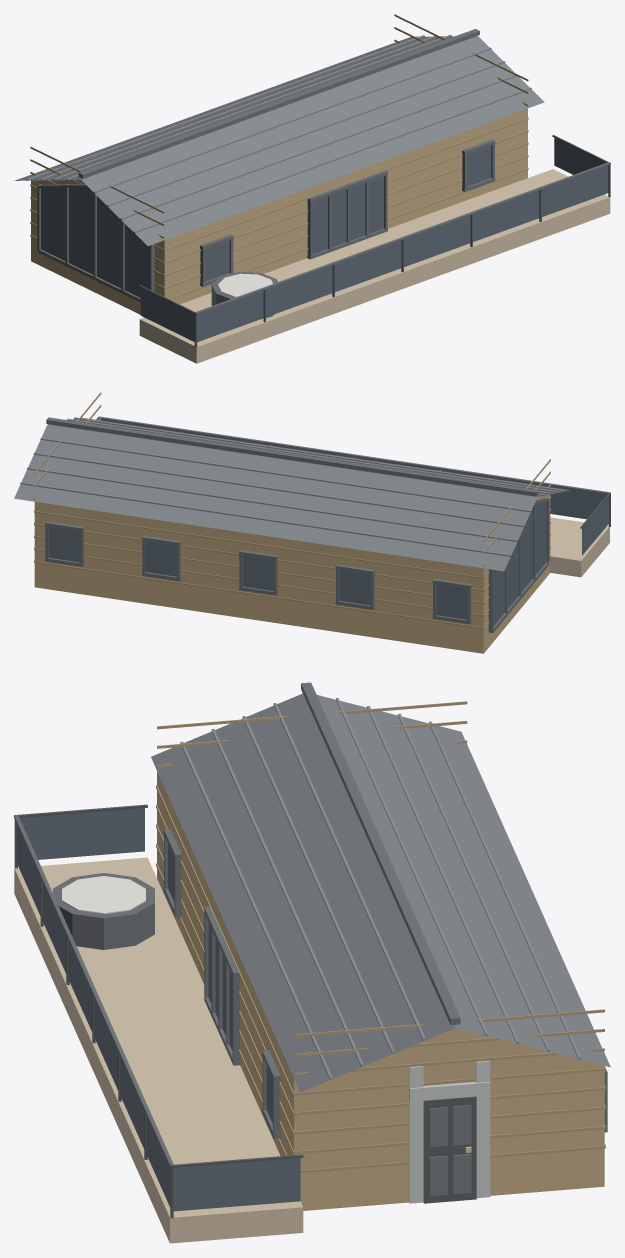
3 renders of one model, top to bottom at view 1: azimuth 30°, elevation 25°; view 2: azimuth 150°, elevation 25°; view 3: azimuth 270°, elevation 25°, orthographic. The views are drawn at different scales.
Visible parts, largest first — view 1: slate, door_wood, larch, slate_dk, slate_lt, window_glass_015, door_wood_p, window_glass_006, window_glass_002, window_glass_004, window_glass_001, window_glass_003 (+12 smaller); view 2: slate, door_wood, slate_dk, slate_lt, door_wood_p, window_glass_015, larch, window_glass_001, window_glass_017, window_glass_020, window_glass_018, window_glass_019 (+2 smaller); view 3: slate, door_wood, larch, slate_dk, slate_lt, door_wood_p, window_glass_008, window_glass_007, stone_band, band_dark, door_dark_p, door_dark (+8 smaller).
Boxes of the visible parts, bbox=[...] form: slate: bbox=[14, 36, 544, 245]; door_wood: bbox=[31, 108, 527, 314]; larch: bbox=[139, 169, 610, 363]; slate_dk: bbox=[37, 29, 609, 314]; slate_lt: bbox=[26, 34, 531, 233]; window_glass_015: bbox=[41, 187, 149, 297]; door_wood_p: bbox=[30, 14, 528, 299]; window_glass_006: bbox=[542, 165, 608, 216]; window_glass_002: bbox=[266, 265, 332, 317]; window_glass_004: bbox=[404, 215, 470, 266]; window_glass_001: bbox=[197, 290, 263, 341]; window_glass_003: bbox=[335, 240, 401, 292]; slate: bbox=[14, 417, 569, 571]; door_wood: bbox=[34, 494, 550, 653]; slate_dk: bbox=[45, 416, 609, 632]; slate_lt: bbox=[20, 417, 564, 556]; door_wood_p: bbox=[34, 392, 550, 629]; window_glass_015: bbox=[493, 501, 546, 625]; larch: bbox=[550, 517, 609, 577]; window_glass_001: bbox=[526, 482, 606, 519]; window_glass_017: bbox=[145, 541, 176, 576]; window_glass_020: bbox=[436, 584, 467, 619]; window_glass_018: bbox=[242, 555, 273, 590]; window_glass_019: bbox=[339, 570, 370, 605]; slate: bbox=[151, 693, 610, 1092]; door_wood: bbox=[157, 771, 604, 1210]; larch: bbox=[14, 857, 303, 1243]; slate_dk: bbox=[14, 682, 607, 1166]; slate_lt: bbox=[180, 698, 581, 1079]; door_wood_p: bbox=[156, 701, 605, 1173]; window_glass_008: bbox=[173, 1158, 300, 1211]; window_glass_007: bbox=[19, 808, 144, 859]; stone_band: bbox=[409, 1060, 490, 1203]; band_dark: bbox=[53, 873, 154, 949]; door_dark_p: bbox=[429, 1105, 471, 1195]; door_dark: bbox=[423, 1096, 476, 1203].
Size of the model in its own units: 15.86 by 3.8 by 10.56.
